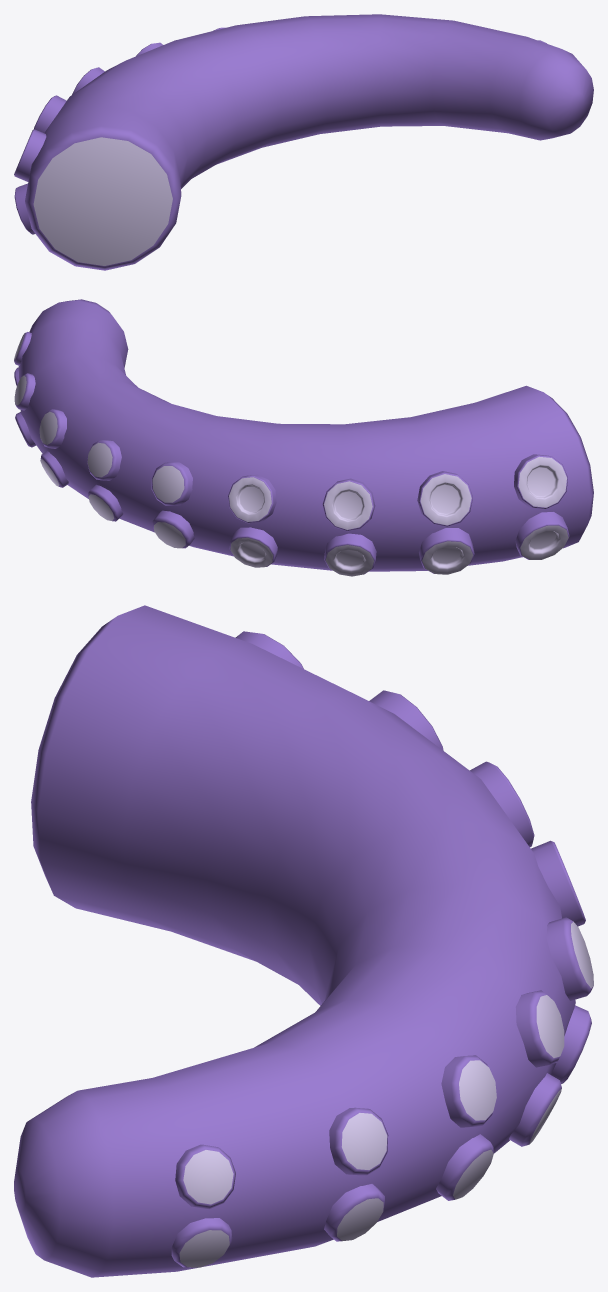
Rendered from Octopus_Tentacles_2_Piece_3.fbx.
3 views of the same model, one above another, from view 1: azimuth 30°, elevation 25°; view 2: azimuth 150°, elevation 25°; view 3: azimuth 270°, elevation 25° (orthographic). The views are drawn at different scales.
Parts seen in each view (by area): view 1: Octopus_Tentacles_2_Piece_3; view 2: Octopus_Tentacles_2_Piece_3; view 3: Octopus_Tentacles_2_Piece_3.
Part boxes in pixels (x1,y1,x2,y2): Octopus_Tentacles_2_Piece_3: (14,14,593,270); Octopus_Tentacles_2_Piece_3: (14,299,593,576); Octopus_Tentacles_2_Piece_3: (14,605,593,1277).
Bounding box in the file's own units: 25.56 × 6.42 × 11.95.
